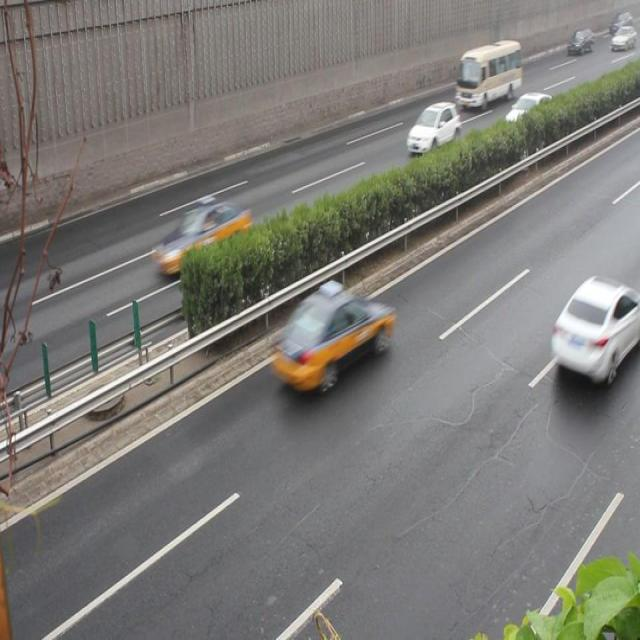car: (269, 281, 392, 390), (548, 272, 639, 379), (152, 199, 250, 276), (405, 98, 460, 153), (502, 88, 551, 132)
